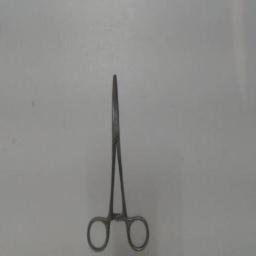Crile Artery Forceps: (84, 66, 154, 254)
